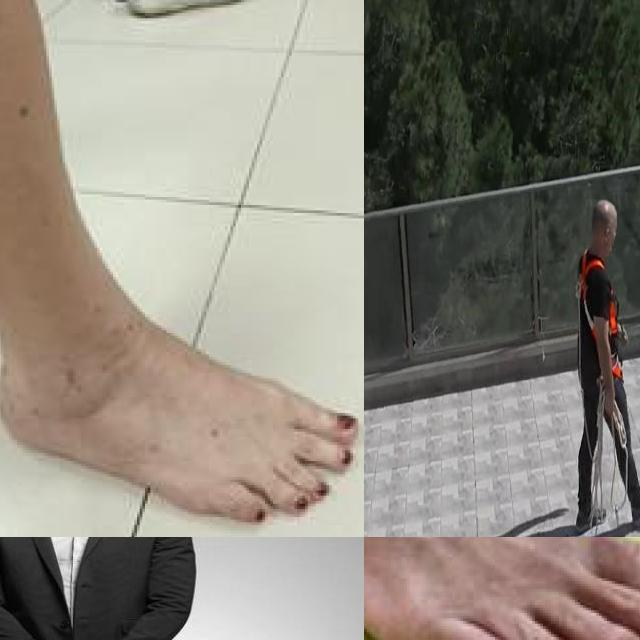Barefoots: (0, 309, 363, 537), (364, 537, 640, 640)
Harness: (579, 251, 606, 334)
person: (0, 537, 197, 640)
